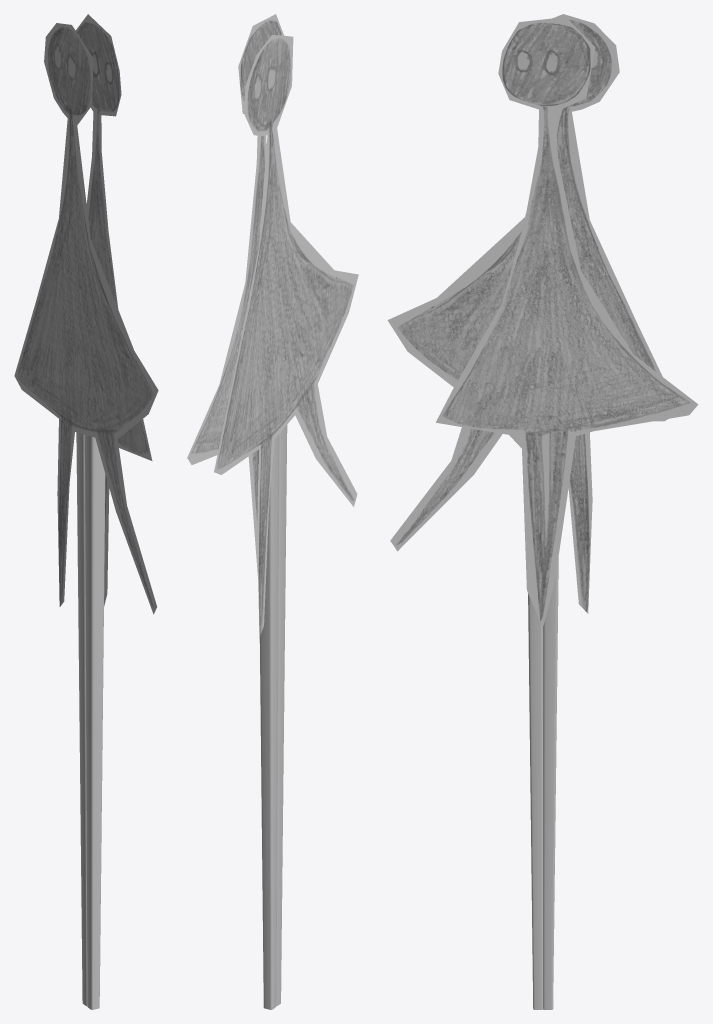
File: syuzinkou.fbx
3 views of the same model, side by side, from view 1: azimuth 30°, elevation 25°; view 2: azimuth 150°, elevation 25°; view 3: azimuth 270°, elevation 25° (orthographic).
Parts seen in each view (by area): view 1: Plane.001, Cube, Plane; view 2: Plane.001, Cube, Plane; view 3: Plane, Plane.001, Cube.
Part boxes in pixels (x1,y1,x2,y2): Plane.001: [14, 23, 158, 614]; Cube: [76, 432, 105, 1009]; Plane: [75, 14, 152, 606]; Plane.001: [214, 35, 358, 637]; Cube: [257, 425, 287, 1009]; Plane: [187, 14, 283, 579]; Plane: [436, 17, 698, 627]; Plane.001: [387, 14, 668, 613]; Cube: [528, 557, 558, 1009].
Bounding box in the file's own units: 34.03 × 1819 × 515.
2 materials, 2 textured.
